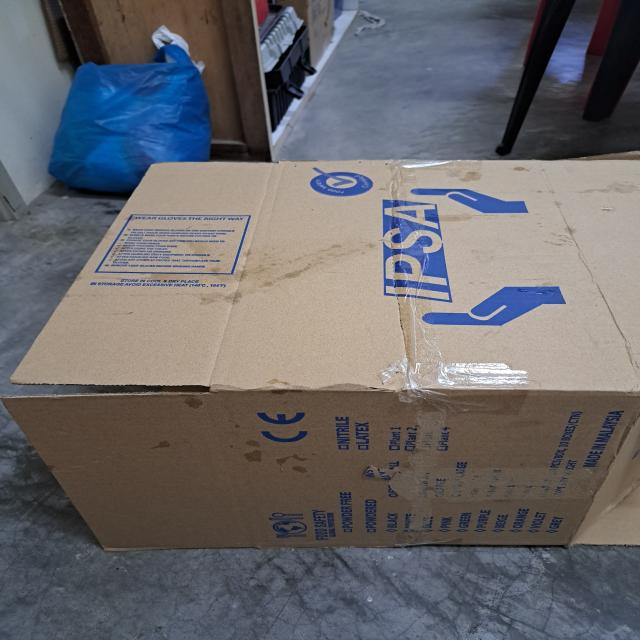cardboard: (0, 151, 640, 548)
plastic bag: (46, 46, 210, 188)
